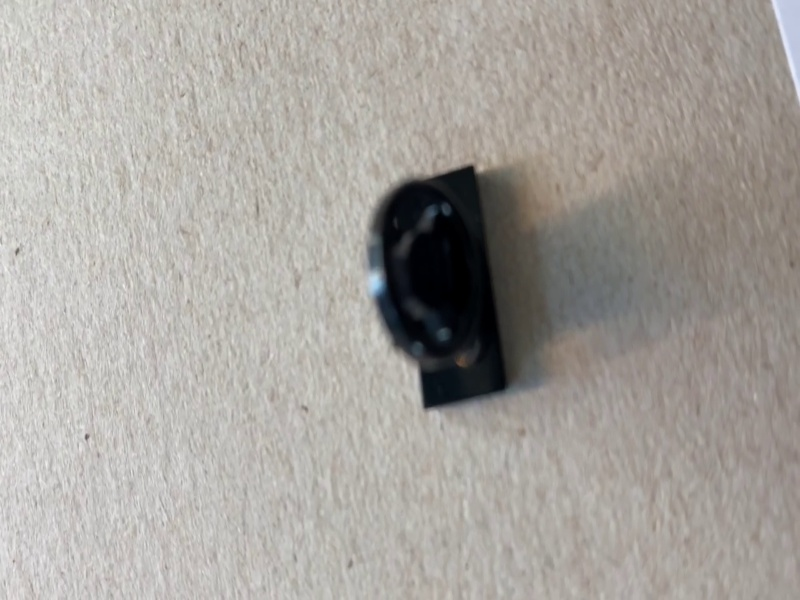steering wheel: (366, 164, 512, 411)
